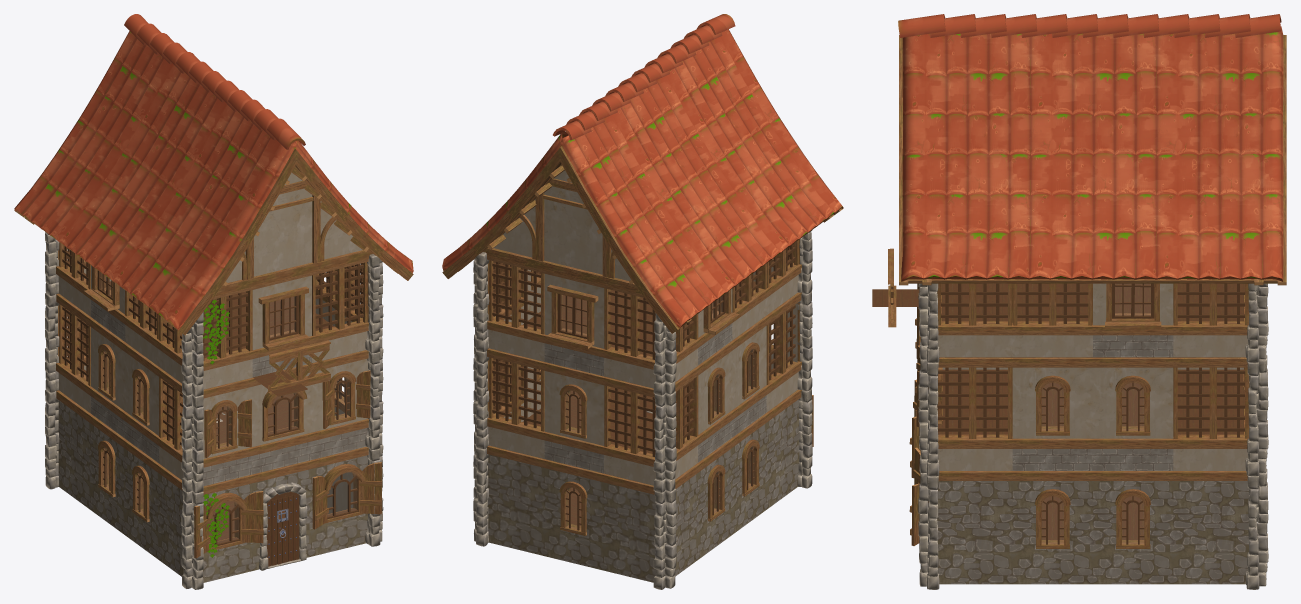
Rendered from house_shop_narrow_1.gltf.
The picture shows the model from 3 angles, left to right: view 1: azimuth 30°, elevation 25°; view 2: azimuth 150°, elevation 25°; view 3: azimuth 270°, elevation 25°; orthographic projection. The views are drawn at different scales.
Parts seen in each view (by area): view 1: House; view 2: House; view 3: House.
Boxes of the visible parts, box(x1,y1,x2,y2) form: House: box(14, 14, 413, 589); House: box(442, 14, 843, 589); House: box(872, 14, 1286, 589).
Size of what is drawn, in the model's own units: 8.25 by 14.26 by 10.33.
10 materials, 9 textured.
